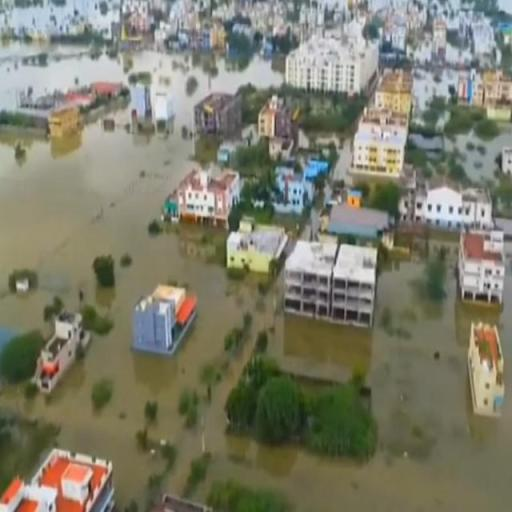flood: (0, 248, 512, 512), (0, 110, 226, 300), (0, 42, 284, 116), (167, 258, 268, 320), (415, 66, 475, 114), (0, 289, 54, 334)
house: (294, 236, 378, 336), (357, 67, 418, 183), (31, 444, 116, 512), (285, 33, 366, 101), (164, 160, 243, 228), (132, 278, 196, 354), (36, 308, 93, 390), (332, 238, 376, 330), (468, 320, 506, 416), (460, 228, 505, 308), (420, 187, 492, 237), (228, 220, 286, 280), (328, 200, 390, 250), (465, 66, 512, 111), (194, 86, 232, 141), (280, 158, 312, 214), (258, 97, 294, 139)
